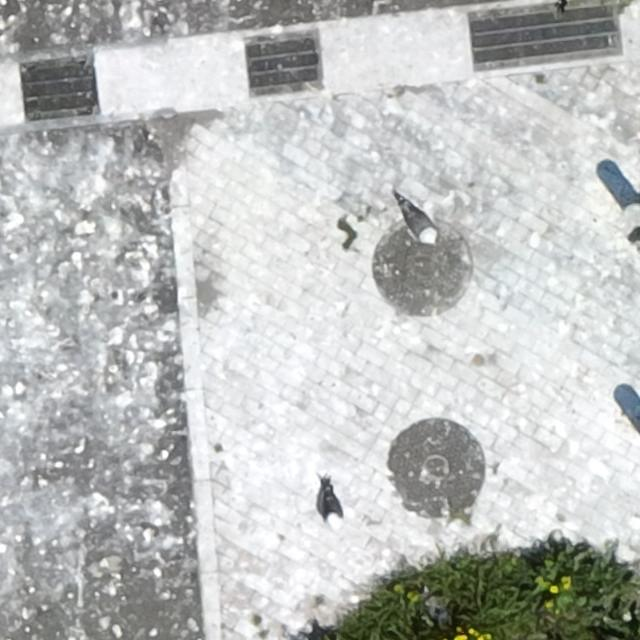umineko: (405, 207, 434, 242), (324, 493, 342, 525)
